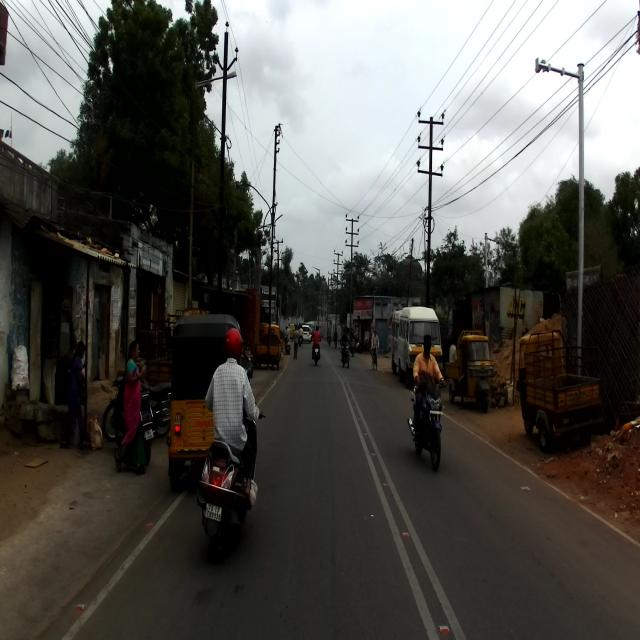autorickshaw: (167, 314, 242, 494), (515, 328, 604, 452), (446, 330, 494, 413)
motorcycle: (406, 371, 446, 472)
scooter: (195, 402, 265, 560), (109, 373, 155, 474)
